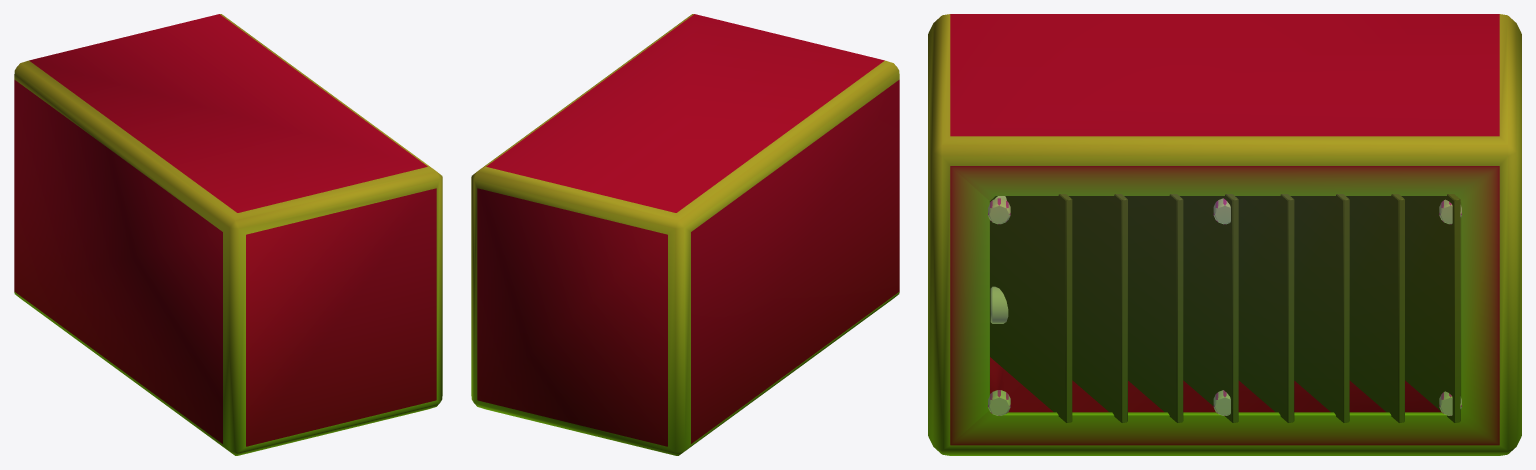
Rendered from RCLModule_surge_tank_ion_thruster_titanium_grate_sponsons.fbx.
The picture shows the model from 3 angles, left to right: view 1: azimuth 30°, elevation 25°; view 2: azimuth 150°, elevation 25°; view 3: azimuth 270°, elevation 25°; orthographic projection. The views are drawn at different scales.
Visible parts, largest first — view 1: RCLModule_surge_tank_ion_thruster_titanium_grate_sponsons_Ba; view 2: RCLModule_surge_tank_ion_thruster_titanium_grate_sponsons_Ba; view 3: RCLModule_surge_tank_ion_thruster_titanium_grate_sponsons_Ba (×3).
Part boxes in pixels (x1,y1,x2,y2): RCLModule_surge_tank_ion_thruster_titanium_grate_sponsons_Ba: [14, 14, 442, 455]; RCLModule_surge_tank_ion_thruster_titanium_grate_sponsons_Ba: [471, 14, 899, 455]; RCLModule_surge_tank_ion_thruster_titanium_grate_sponsons_Ba (×3): [928, 14, 1521, 455].
Size of the model in its own units: 37.59 by 38 by 64.
